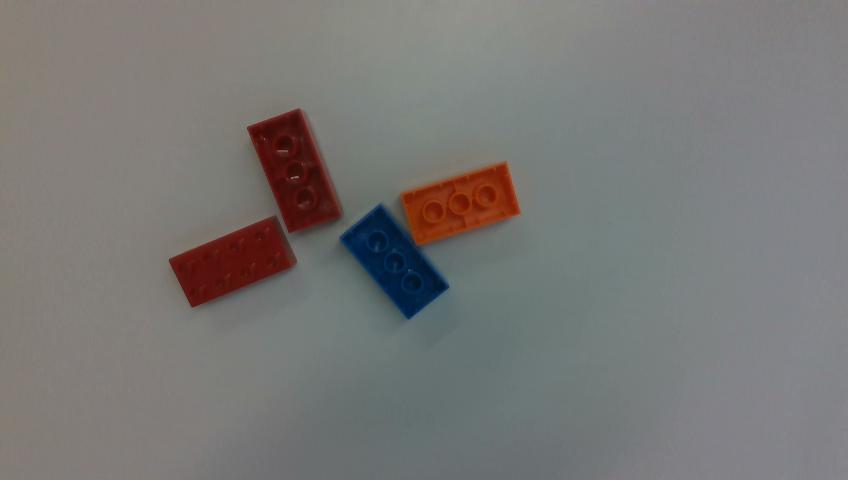4x2_blue: (340, 204, 448, 318)
4x2_orange: (401, 162, 520, 245)
4x2_red: (170, 216, 295, 307), (249, 109, 340, 231)
